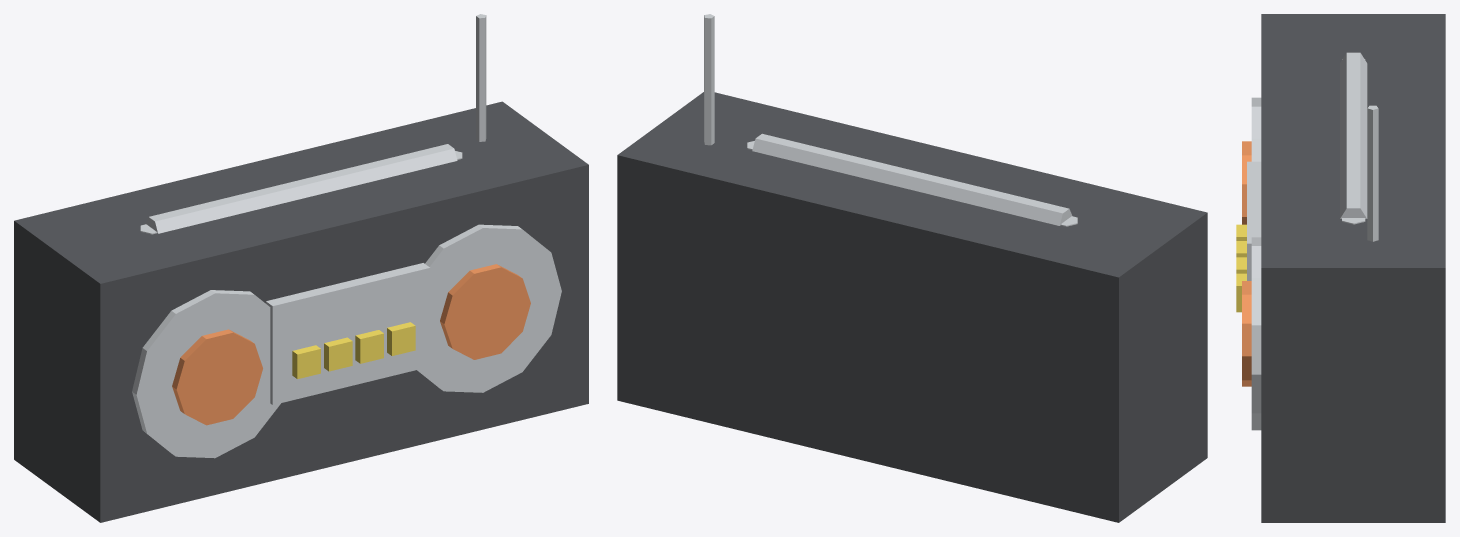
Rendered from skate-park-and-street-sports-boombox-eb3acf09__33553.glb.
3 views of the same model, side by side, from view 1: azimuth 30°, elevation 25°; view 2: azimuth 150°, elevation 25°; view 3: azimuth 270°, elevation 25° (orthographic). The views are drawn at different scales.
Visible parts, largest first — view 1: boombox-charcoal, boombox-steel, boombox-sunset, boombox-canary; view 2: boombox-charcoal, boombox-steel; view 3: boombox-charcoal, boombox-steel, boombox-sunset, boombox-canary.
Boxes of the visible parts, bbox=[...] form: boombox-charcoal: bbox=[14, 101, 588, 522]; boombox-steel: bbox=[132, 14, 561, 458]; boombox-sunset: bbox=[172, 264, 530, 425]; boombox-canary: bbox=[292, 322, 415, 379]; boombox-charcoal: bbox=[617, 92, 1207, 522]; boombox-steel: bbox=[704, 14, 1077, 226]; boombox-charcoal: bbox=[1261, 14, 1445, 522]; boombox-steel: bbox=[1247, 52, 1378, 430]; boombox-sunset: bbox=[1242, 141, 1251, 386]; boombox-canary: bbox=[1236, 224, 1246, 312].
Size of the model in its own units: 0.62 by 0.44 by 0.216.
